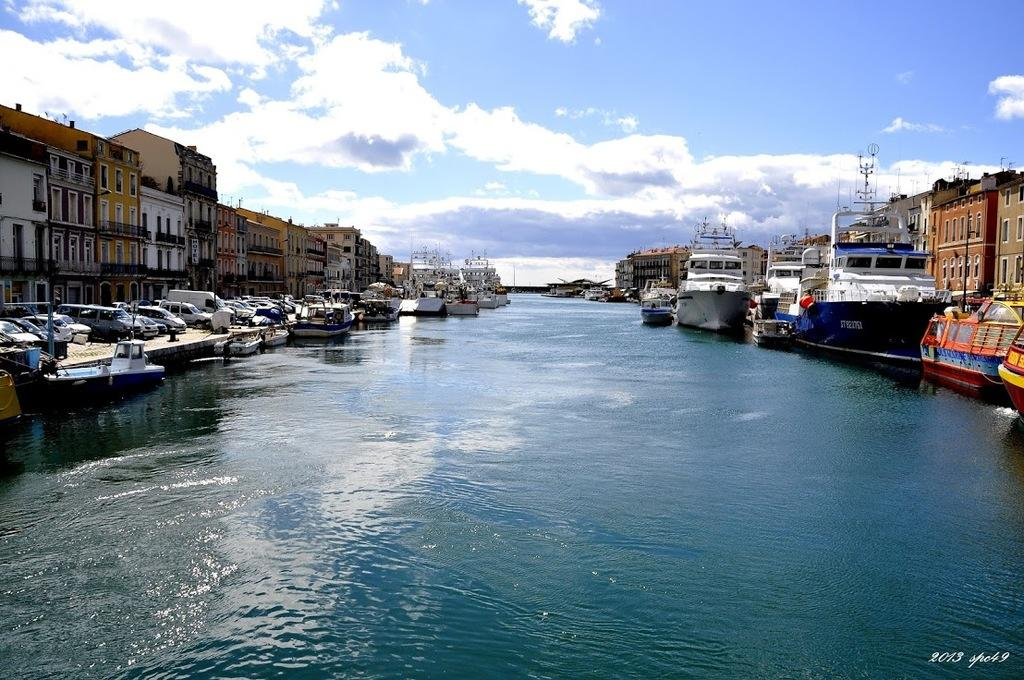PassengerShip: (787, 188, 953, 366), (675, 218, 761, 332), (635, 282, 675, 328)
